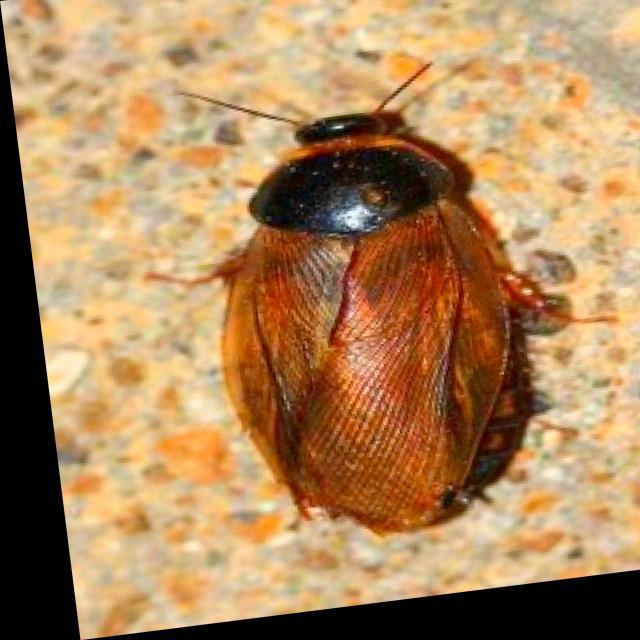cockroach: (145, 54, 612, 539)
